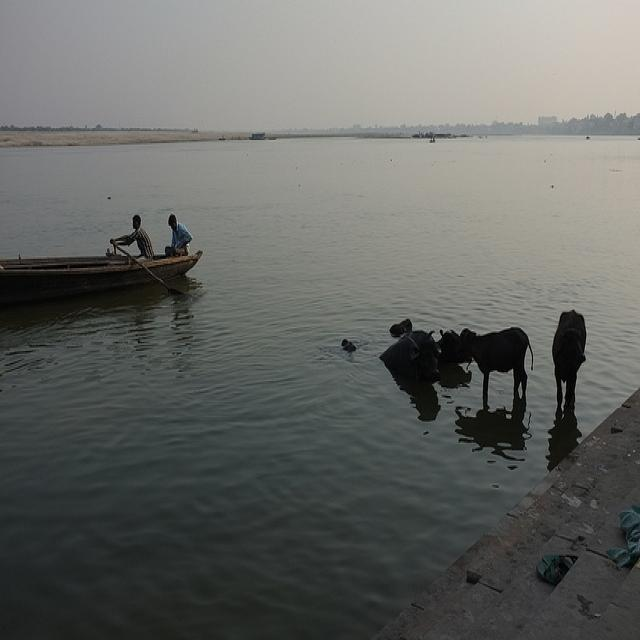cow: (453, 324, 533, 410), (550, 307, 586, 420), (379, 335, 439, 380), (434, 327, 458, 361), (388, 317, 412, 335)
